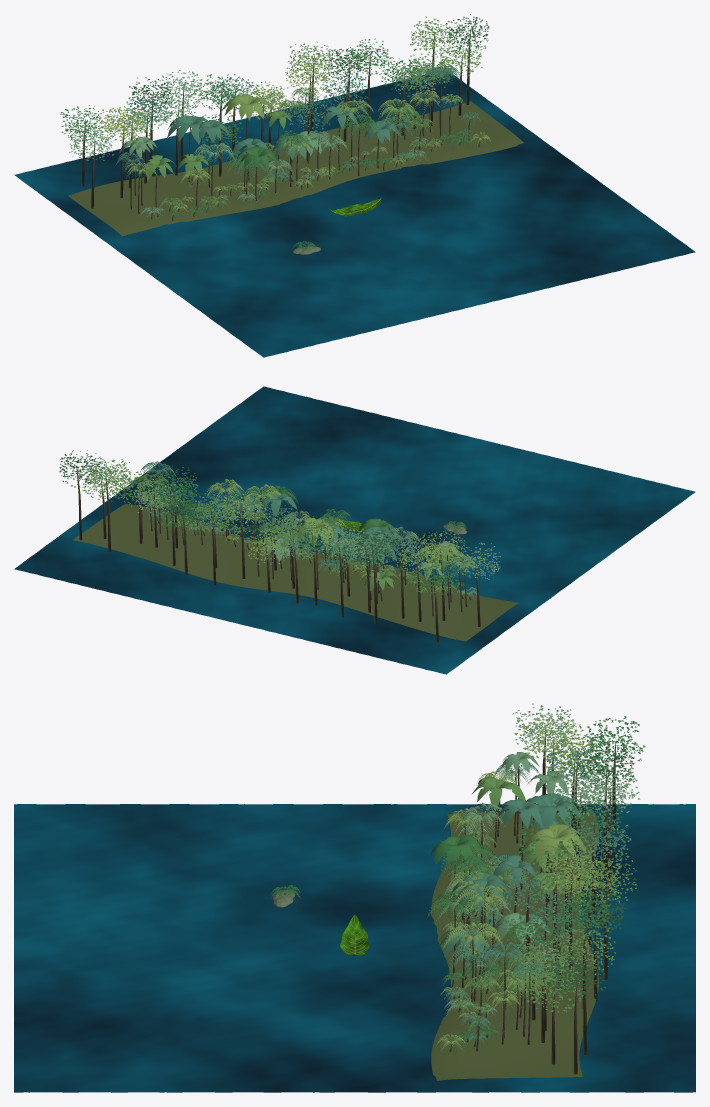
The model's file is lakeleaf-r01.glb.
3 views of the same model, one above another, from view 1: azimuth 30°, elevation 25°; view 2: azimuth 150°, elevation 25°; view 3: azimuth 270°, elevation 25° (orthographic). The views are drawn at different scales.
Parts seen in each view (by area): view 1: LAKE_001_WaterSurface, SHORE_001_ObservedBankSector, FORESTPALM_006_Foliage, TREE_022_Crown, TREE_000_Crown, TREE_024_Crown, TREE_016_Crown, TREE_018_Crown, TREE_014_Crown, TREE_002_Crown, TREE_013_Crown, TREE_019_Crown (+9 smaller); view 2: LAKE_001_WaterSurface, SHORE_001_ObservedBankSector, TREE_022_Crown, TREE_001_Crown, TREE_015_Crown, TREE_005_Crown, TREE_024_Crown, TREE_002_Crown, TREE_007_Crown, TREE_000_Crown, TREE_004_Crown, TREE_012_Crown (+16 smaller); view 3: LAKE_001_WaterSurface, SHORE_001_ObservedBankSector, FORESTPALM_006_Foliage, TREE_007_Crown, TREE_024_Crown, TREE_018_Crown, TREE_022_Crown, TREE_015_Crown, FORESTPALM_024_Foliage, TREE_005_Crown, TREE_002_Crown, TREE_023_Crown (+30 smaller).
Boxes of the visible parts, x1,y1,x2,y2 form: LAKE_001_WaterSurface: [14, 69, 695, 357]; SHORE_001_ObservedBankSector: [68, 101, 523, 236]; FORESTPALM_006_Foliage: [222, 94, 274, 120]; TREE_022_Crown: [410, 16, 453, 54]; TREE_000_Crown: [69, 125, 113, 160]; TREE_024_Crown: [446, 14, 489, 51]; TREE_016_Crown: [322, 70, 368, 105]; TREE_018_Crown: [344, 38, 389, 75]; TREE_014_Crown: [285, 56, 329, 95]; TREE_002_Crown: [99, 107, 144, 142]; TREE_013_Crown: [285, 93, 330, 131]; TREE_019_Crown: [380, 54, 424, 90]; LAKE_001_WaterSurface: [14, 386, 695, 674]; SHORE_001_ObservedBankSector: [73, 504, 519, 641]; TREE_022_Crown: [87, 459, 132, 493]; TREE_001_Crown: [414, 560, 459, 596]; TREE_015_Crown: [191, 493, 236, 528]; TREE_005_Crown: [354, 529, 397, 566]; TREE_024_Crown: [59, 450, 102, 487]; TREE_002_Crown: [422, 529, 465, 566]; TREE_007_Crown: [320, 523, 364, 560]; TREE_000_Crown: [457, 542, 500, 579]; TREE_004_Crown: [380, 530, 426, 568]; TREE_012_Crown: [245, 527, 291, 564]; LAKE_001_WaterSurface: [14, 804, 695, 1092]; SHORE_001_ObservedBankSector: [431, 812, 598, 1080]; FORESTPALM_006_Foliage: [522, 824, 586, 862]; TREE_007_Crown: [577, 765, 640, 814]; TREE_024_Crown: [546, 950, 605, 1001]; TREE_018_Crown: [552, 888, 615, 940]; TREE_022_Crown: [553, 925, 615, 975]; TREE_015_Crown: [575, 852, 637, 902]; FORESTPALM_024_Foliage: [515, 793, 582, 828]; TREE_005_Crown: [574, 743, 635, 794]; TREE_002_Crown: [522, 713, 583, 763]; TREE_023_Crown: [523, 962, 584, 1012].
Size of the model in its own units: 76 by 15.86 by 76.
Materials: 12 (2 with a texture image).
